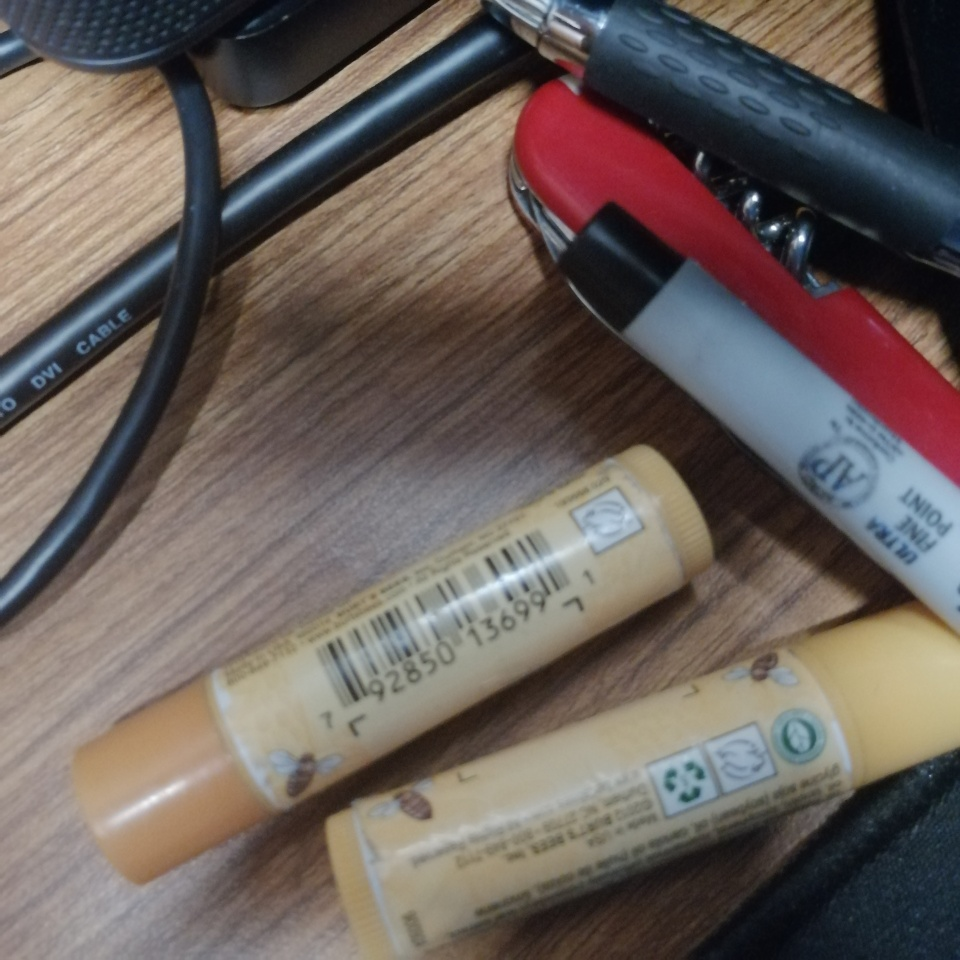chapstick: (71, 444, 714, 884), (325, 598, 957, 960)
